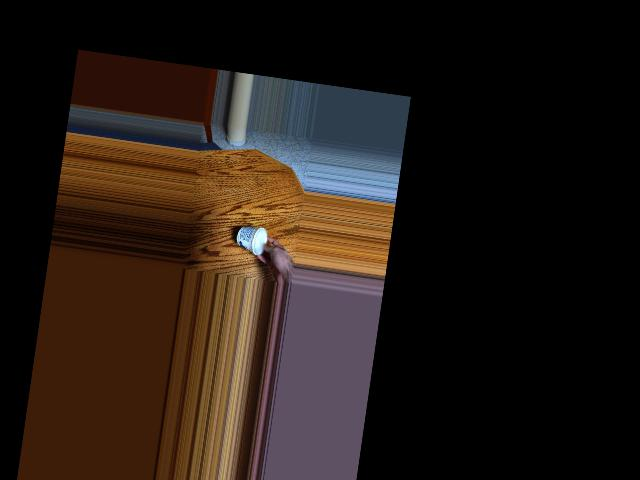cotage: (231, 217, 267, 252)
